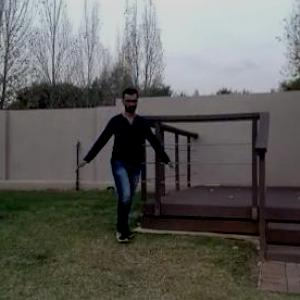land: (74, 75, 183, 262)
